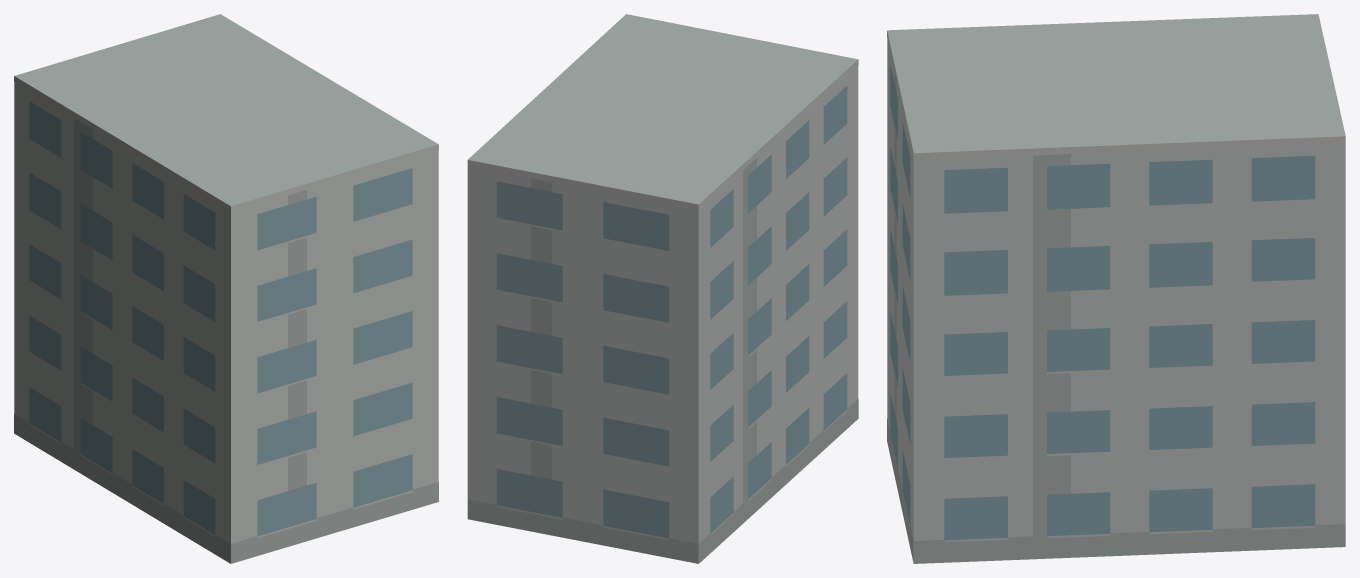
Rendered from survey-upis-33008670.glb.
3 views of the same model, side by side, from view 1: azimuth 30°, elevation 25°; view 2: azimuth 150°, elevation 25°; view 3: azimuth 270°, elevation 25° (orthographic). The views are drawn at different scales.
Visible parts, largest first — view 1: survey-upis-33008670.tmp; view 2: survey-upis-33008670.tmp; view 3: survey-upis-33008670.tmp.
Part boxes in pixels (x1,y1,x2,y2): survey-upis-33008670.tmp: (14, 14, 438, 563); survey-upis-33008670.tmp: (467, 14, 858, 563); survey-upis-33008670.tmp: (887, 14, 1345, 563).
Size of the model in its own units: 10.33 by 14.2 by 14.38.
